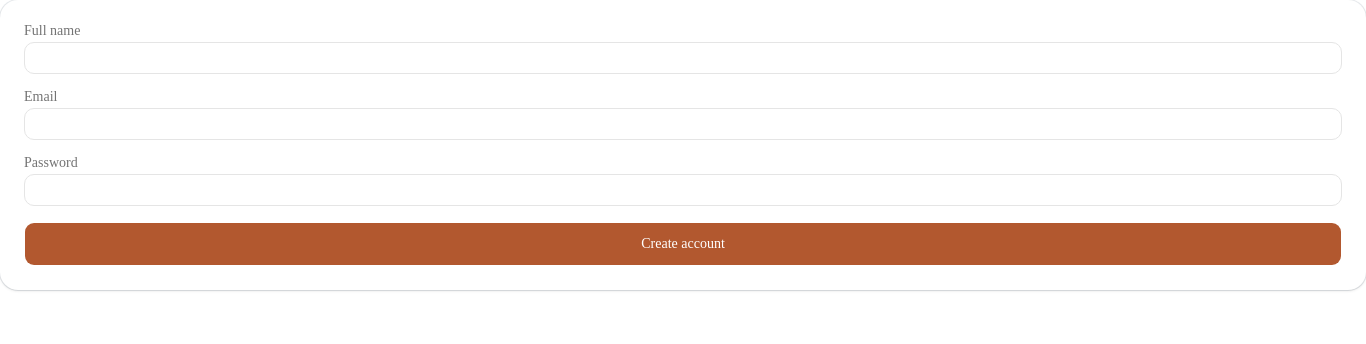
Test: SignUpForm › blocks submission and shows an inline error for a too-short password
Type "Jane Doe" into the field labelled "Full name" at (683, 58), box [24,42,1342,74]
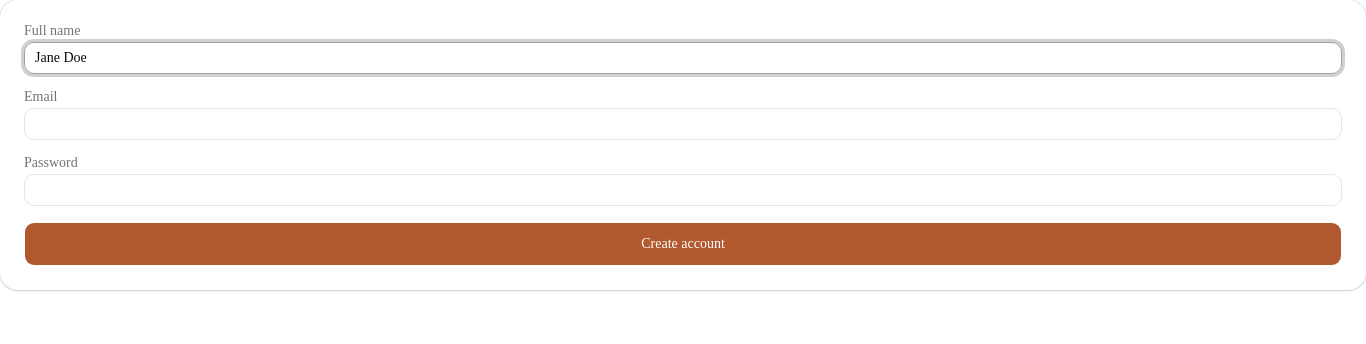
Type "jane@example.com" into the field labelled "Email" at (683, 124), box [24,108,1342,140]
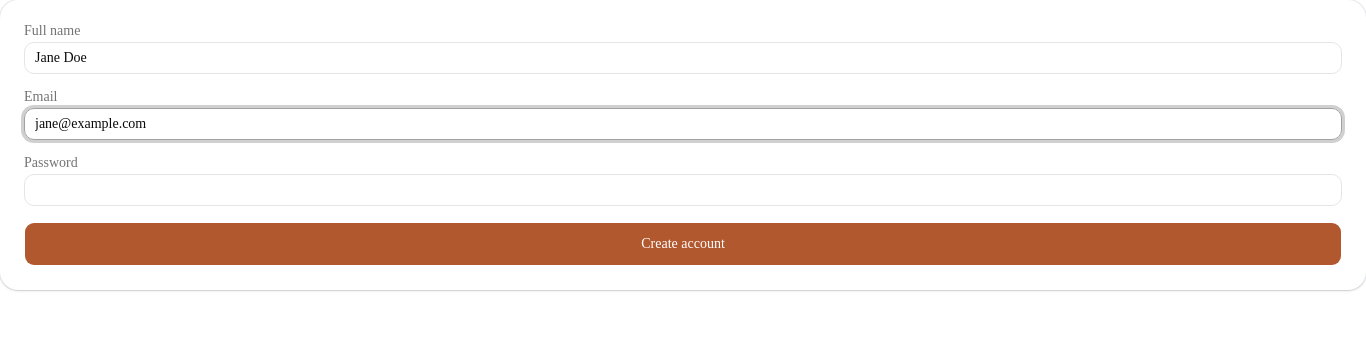
Type "short" into the password field labelled "Password" at (683, 190), box [24,174,1342,206]
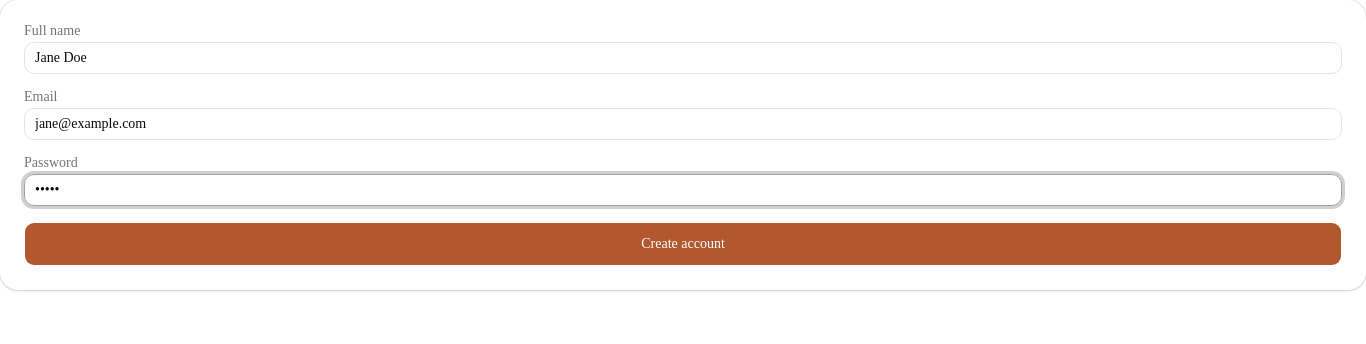
Click the button "Create account" at (683, 244), box [24,222,1342,266]
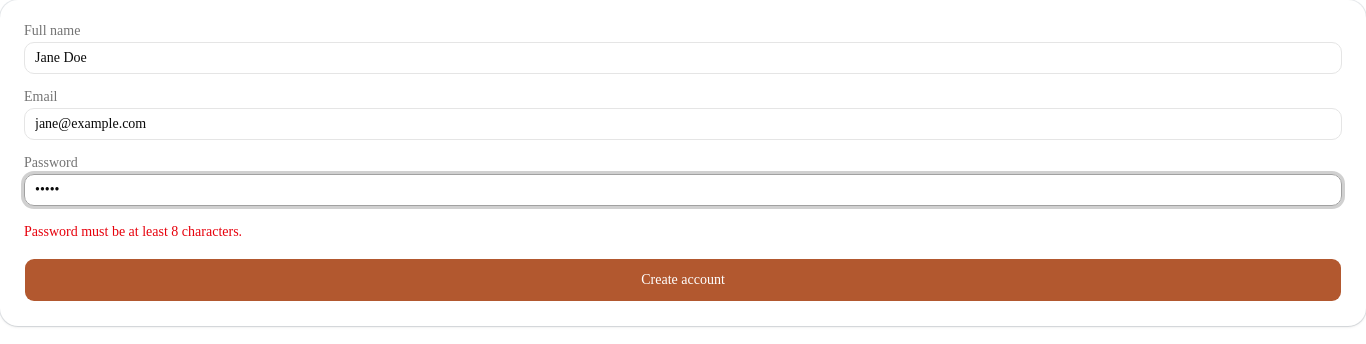
Expected: the message shows "at least 8 characters", [24,224,242,239]
